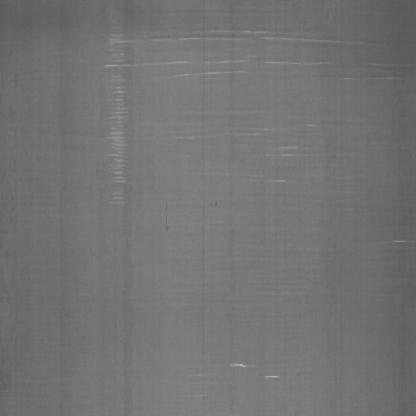waist_folding: (108, 26, 324, 338)
